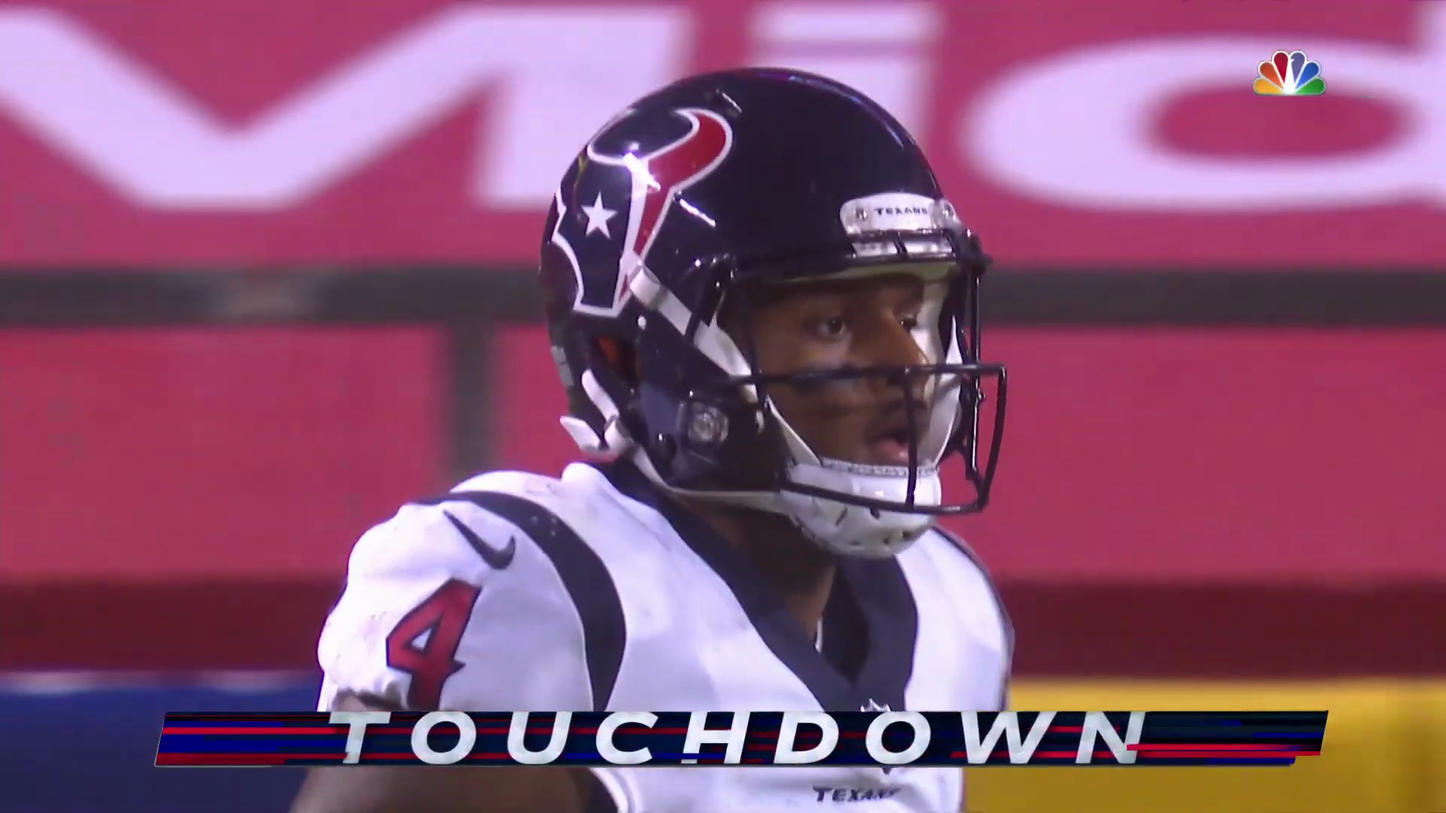Player: (432, 184, 915, 718), (634, 241, 1062, 684)
